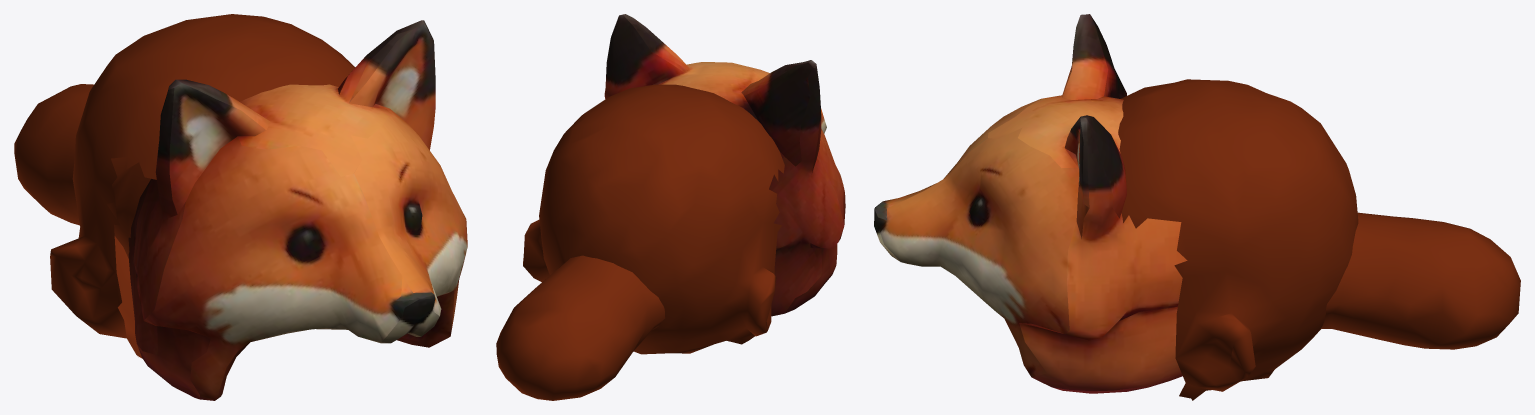
File: red-fox.glb
3 views of the same model, side by side, from view 1: azimuth 30°, elevation 25°; view 2: azimuth 150°, elevation 25°; view 3: azimuth 270°, elevation 25° (orthographic). The views are drawn at different scales.
Parts seen in each view (by area): view 1: geometry_0, HoodAnatomicalLining; view 2: HoodAnatomicalLining, geometry_0; view 3: geometry_0, HoodAnatomicalLining.
Boxes of the visible parts, x1=… form: geometry_0: x1=14, y1=20, x2=467, y2=400; HoodAnatomicalLining: x1=50, y1=14, x2=355, y2=358; HoodAnatomicalLining: x1=523, y1=84, x2=784, y2=354; geometry_0: x1=496, y1=14, x2=845, y2=400; geometry_0: x1=874, y1=14, x2=1520, y2=393; HoodAnatomicalLining: x1=1118, y1=79, x2=1358, y2=400.
Bounding box in the file's own units: 0.4694 × 0.4629 × 0.9193.
Materials: 2 (1 with a texture image).
